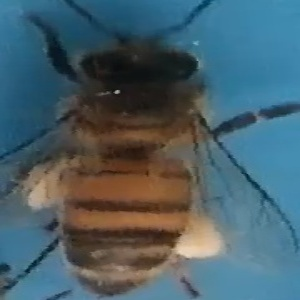bee: (18, 6, 295, 300)
